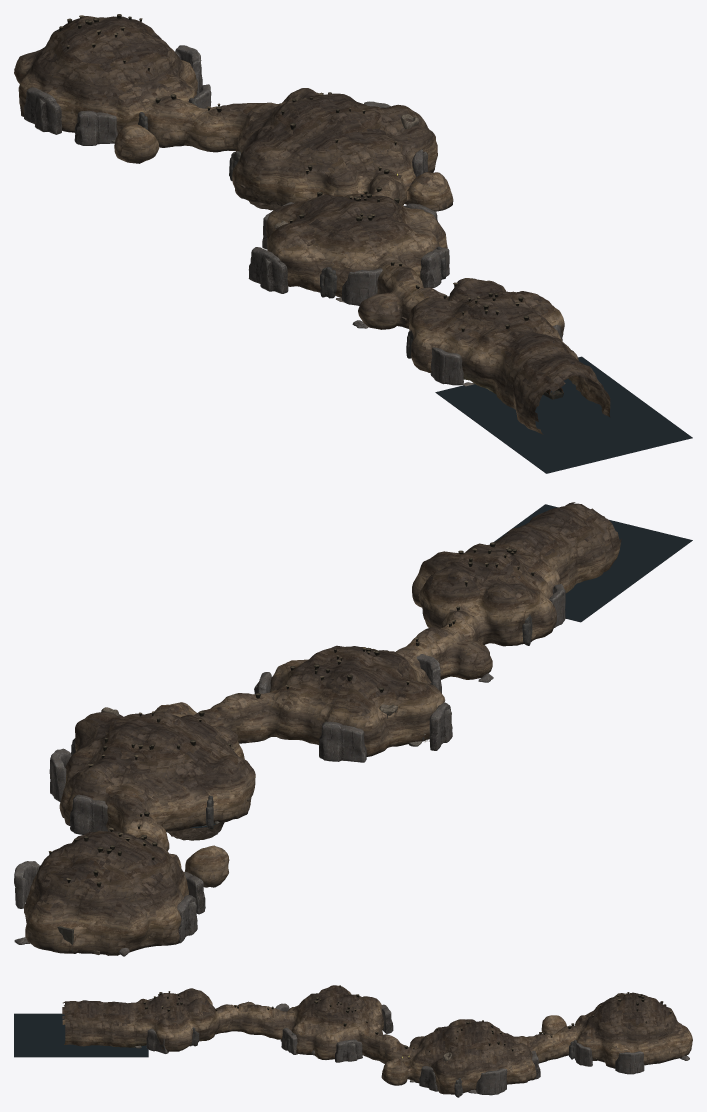
The model's file is island_caves.glb.
3 views of the same model, one above another, from view 1: azimuth 30°, elevation 25°; view 2: azimuth 150°, elevation 25°; view 3: azimuth 270°, elevation 25° (orthographic). The views are drawn at different scales.
Parts seen in each view (by area): view 1: Cave, Water_Sea, Prop_cave_wall_c, Prop_cave_wall_c.003, Prop_cave_wall_b.004, Prop_cave_wall_a.001, Prop_cave_wall_a, Prop_cave_wall_b.002; view 2: Cave, Water_Sea, Prop_cave_wall_b.001, Prop_cave_wall_b.003, Prop_cave_wall_c, Prop_cave_wall_a.002, Prop_cave_wall_a.003, Prop_cave_wall_c.003; view 3: Cave, Water_Sea, Prop_cave_wall_a.002, Prop_cave_wall_a.003, Prop_cave_wall_c.001, Prop_cave_wall_c.002, Prop_cave_wall_a.004, Prop_cave_wall_b, Prop_cave_wall_b.002, Prop_cave_wall_b.001.
Boxes of the visible parts, bbox=[...] form: Cave: bbox=[14, 16, 610, 434]; Water_Sea: bbox=[435, 356, 692, 473]; Prop_cave_wall_c: bbox=[248, 247, 288, 293]; Prop_cave_wall_c.003: bbox=[24, 87, 61, 134]; Prop_cave_wall_b.004: bbox=[74, 110, 117, 145]; Prop_cave_wall_a.001: bbox=[341, 268, 382, 305]; Prop_cave_wall_a: bbox=[430, 347, 463, 385]; Prop_cave_wall_b.002: bbox=[420, 247, 449, 287]; Cave: bbox=[24, 502, 621, 955]; Water_Sea: bbox=[493, 504, 692, 622]; Prop_cave_wall_b.001: bbox=[319, 721, 366, 762]; Prop_cave_wall_b.003: bbox=[70, 794, 108, 834]; Prop_cave_wall_c: bbox=[429, 702, 452, 750]; Prop_cave_wall_a.002: bbox=[49, 748, 71, 801]; Prop_cave_wall_a.003: bbox=[14, 861, 39, 908]; Prop_cave_wall_c.003: bbox=[177, 895, 197, 943]; Cave: bbox=[62, 985, 692, 1094]; Water_Sea: bbox=[14, 1013, 148, 1057]; Prop_cave_wall_a.002: bbox=[476, 1068, 507, 1095]; Prop_cave_wall_a.003: bbox=[615, 1051, 644, 1074]; Prop_cave_wall_c.001: bbox=[335, 1039, 362, 1062]; Prop_cave_wall_c.002: bbox=[419, 1066, 437, 1091]; Prop_cave_wall_a.004: bbox=[574, 1042, 592, 1066]; Prop_cave_wall_b: bbox=[146, 1028, 168, 1053]; Prop_cave_wall_b.002: bbox=[281, 1028, 297, 1054]; Prop_cave_wall_b.001: bbox=[381, 1004, 393, 1033].
Size of what is drawn, in the model's own units: 29.89 by 10.35 by 106.
31 materials, 27 textured.
